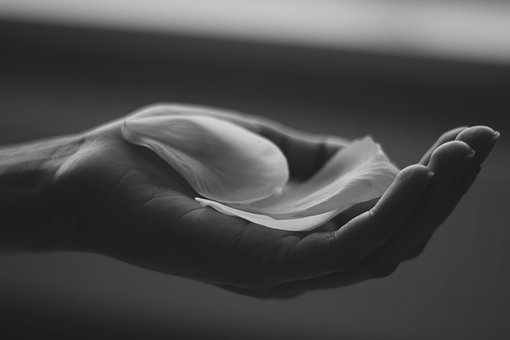palm: (137, 131, 315, 254)
